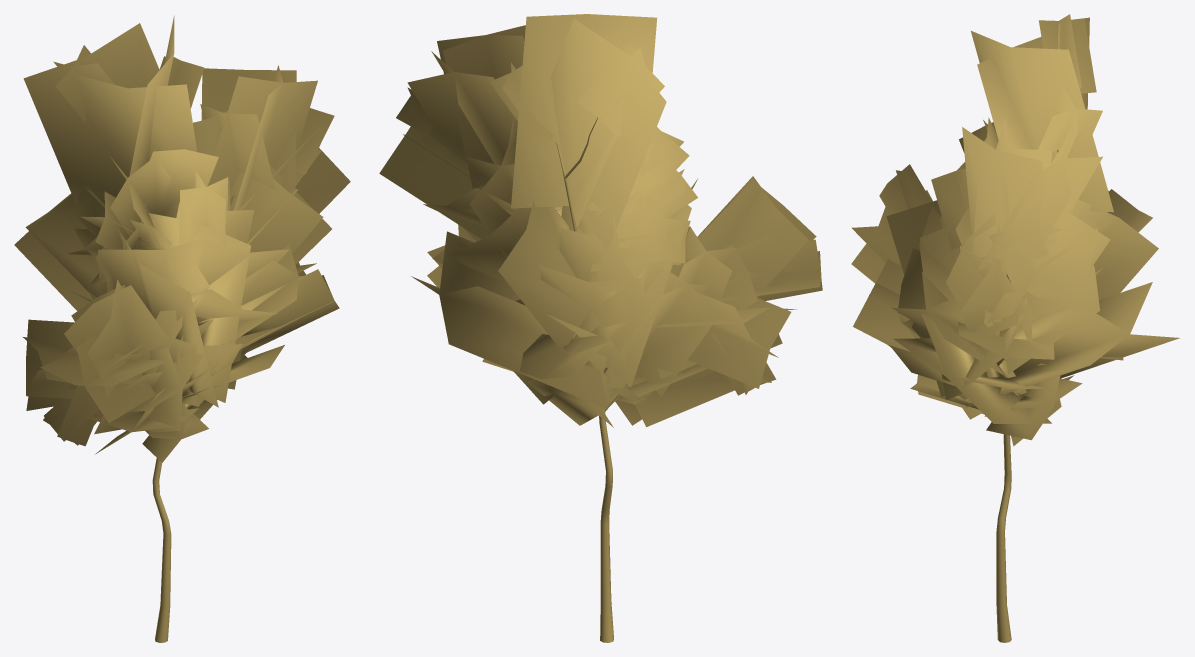
File: cmc_quakingaspen_LOD_0.fbx
3 renders of one model, left to right at view 1: azimuth 30°, elevation 25°; view 2: azimuth 150°, elevation 25°; view 3: azimuth 270°, elevation 25°, orthographic. The views are drawn at different scales.
Visible parts, largest first — view 1: quaking_aspen_leaves, quaking_aspen_full_LOD_0; view 2: quaking_aspen_leaves, quaking_aspen_full_LOD_0; view 3: quaking_aspen_leaves, quaking_aspen_full_LOD_0.
Part boxes in pixels (box(x1,y1,x2,y2)): quaking_aspen_leaves: box(14, 15, 350, 462); quaking_aspen_full_LOD_0: box(127, 358, 171, 642); quaking_aspen_leaves: box(379, 14, 822, 427); quaking_aspen_full_LOD_0: box(556, 117, 626, 642); quaking_aspen_leaves: box(851, 14, 1179, 446); quaking_aspen_full_LOD_0: box(996, 150, 1058, 642).
Bounding box in the file's own units: 10.32 × 16.67 × 8.07.
